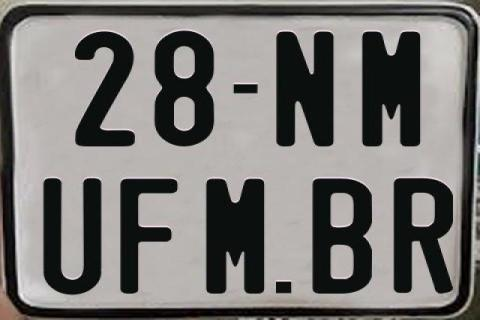0: (72, 31, 134, 151), (154, 28, 215, 147)
B: (309, 179, 373, 297)
F: (117, 178, 177, 294)
M: (204, 177, 268, 296), (359, 30, 423, 146)
N: (275, 29, 335, 145)
R: (393, 178, 453, 294)
U: (41, 179, 105, 299)
